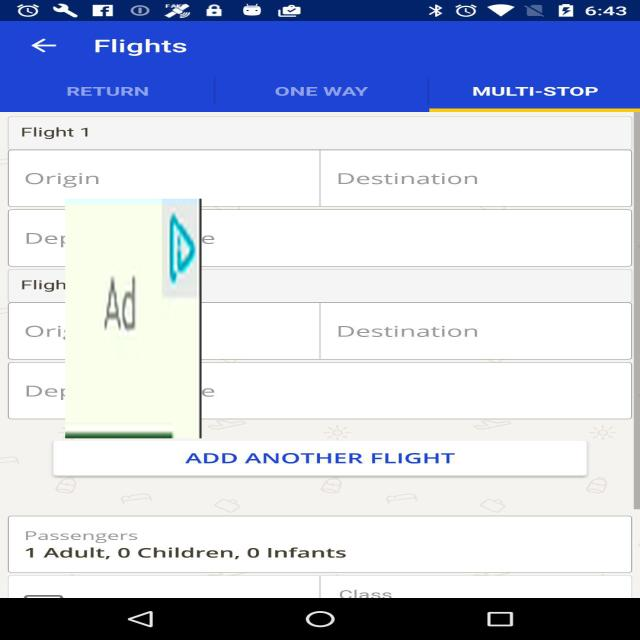sneaking: (65, 199, 202, 438)
